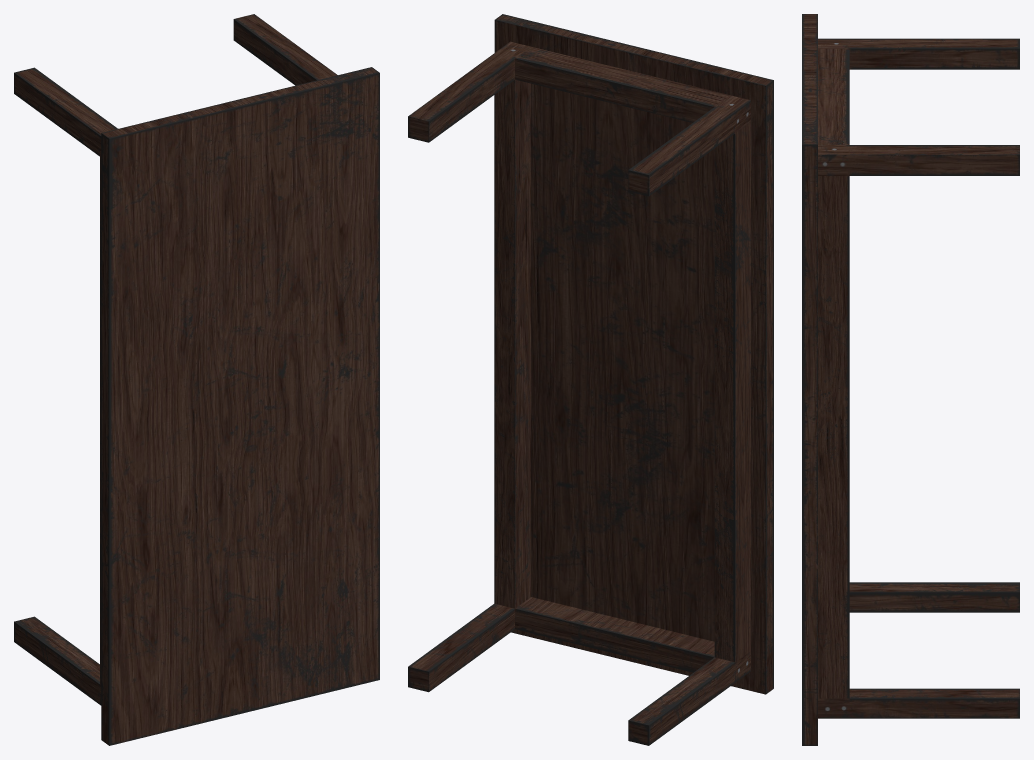
The picture shows the model from 3 angles, left to right: view 1: azimuth 30°, elevation 25°; view 2: azimuth 150°, elevation 25°; view 3: azimuth 270°, elevation 25°; orthographic projection.
Parts seen in each view (by area): view 1: Cube; view 2: Cube; view 3: Cube.
Part boxes in pixels (x1,y1,x2,y2): Cube: [14, 14, 379, 745]; Cube: [408, 14, 773, 745]; Cube: [802, 14, 1019, 745].
Bounding box in the file's own units: 0.9328 × 2 × 0.657.
Materials: 1 (1 with a texture image).
